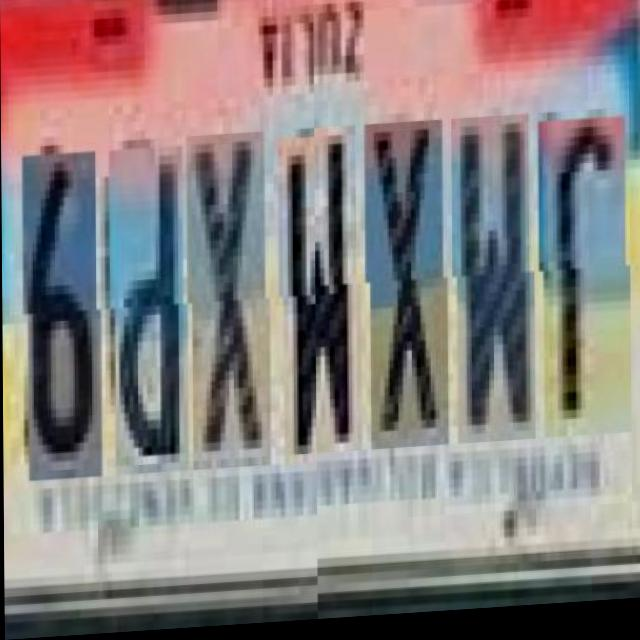9: (22, 143, 98, 474)
j: (537, 125, 627, 446)
m: (277, 129, 358, 461), (450, 120, 531, 451)
p: (108, 139, 182, 469)
x: (186, 126, 266, 464), (364, 125, 444, 456)
